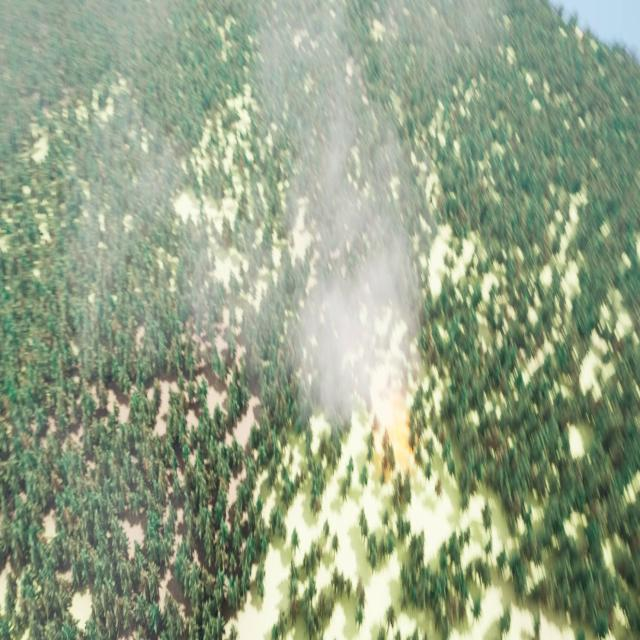smoke: (64, 0, 498, 427)
